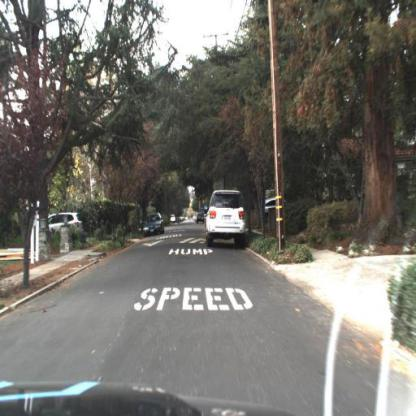car: (203, 190, 247, 247), (46, 211, 88, 243), (262, 193, 291, 213), (143, 214, 166, 236), (196, 209, 207, 224)
